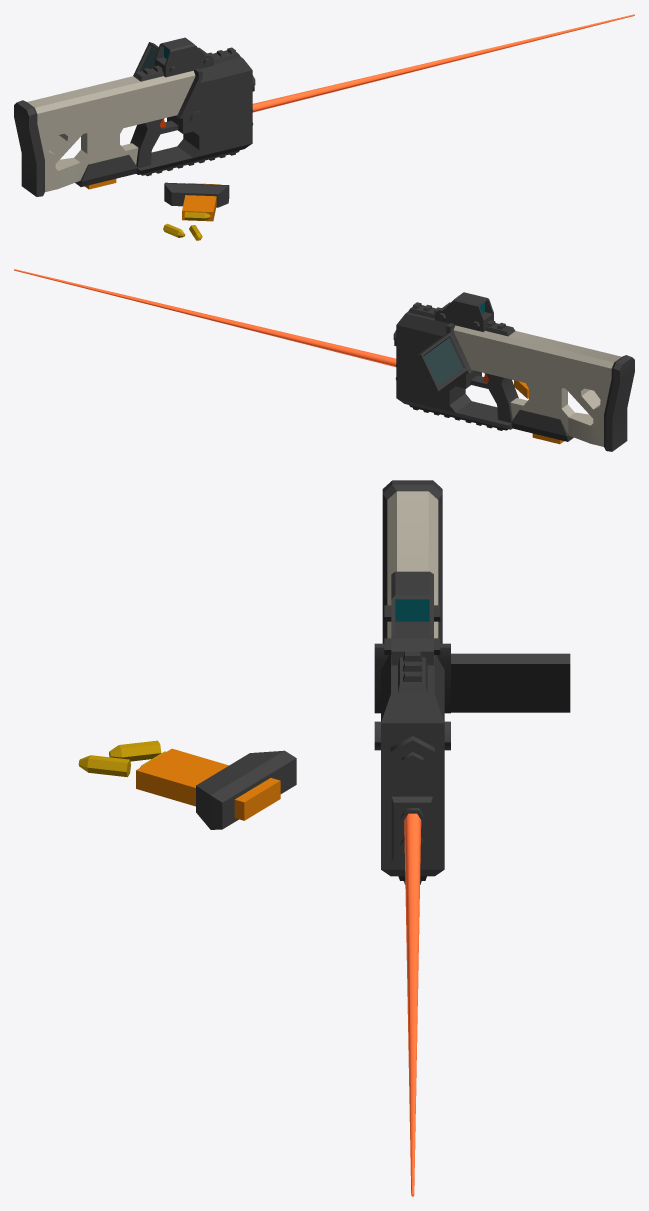
Rendered from scene_xrdku1SPbl.glb.
The picture shows the model from 3 angles, top to bottom: view 1: azimuth 30°, elevation 25°; view 2: azimuth 150°, elevation 25°; view 3: azimuth 270°, elevation 25°; orthographic projection. The views are drawn at different scales.
Parts seen in each view (by area): view 1: Line1300, Line1302, Cylinder1186, Line1317, gun_acc_sign_022, Line1299, Line1303, Line1297, Rectangle395, Line1301, Line1304, Box11136; view 2: Line1300, Line1302, Cylinder1186, Line1304, gun_acc_sign_022, Line1299, Line1303, Line1297, Rectangle395, Box11136; view 3: Line1317, Line1302, Line1304, Line1300, gun_acc_sign_022, Cylinder1186, Box11139, Cylinder1177, Line1301.
Part boxes in pixels (x1,y1,x2,y2): Line1300: (14, 70, 195, 196); Line1302: (136, 57, 252, 174); Cylinder1186: (252, 14, 634, 112); Line1317: (164, 182, 229, 221); gun_acc_sign_022: (155, 37, 213, 77); Line1299: (74, 128, 138, 179); Line1303: (75, 154, 137, 189); Line1297: (130, 118, 162, 168); Rectangle395: (133, 50, 240, 175); Line1301: (175, 68, 202, 118); Line1304: (133, 42, 158, 75); Box11136: (143, 47, 236, 176); Line1300: (453, 325, 634, 451); Line1302: (396, 312, 512, 429); Cylinder1186: (14, 269, 396, 367); Line1304: (416, 332, 468, 392); gun_acc_sign_022: (435, 292, 493, 331); Line1299: (510, 383, 574, 433); Line1303: (511, 409, 573, 444); Line1297: (486, 373, 518, 422); Rectangle395: (408, 305, 515, 430); Box11136: (412, 302, 505, 430); Line1317: (136, 748, 296, 829); Line1302: (381, 655, 444, 876); Line1304: (451, 653, 570, 712); Line1300: (382, 480, 442, 643); gun_acc_sign_022: (384, 571, 440, 665); Cylinder1186: (404, 813, 421, 1196); Box11139: (391, 796, 432, 860); Cylinder1177: (390, 736, 434, 786); Line1301: (374, 643, 450, 713).
Bounding box in the file's own units: 2.22 × 0.4275 × 0.7714.
